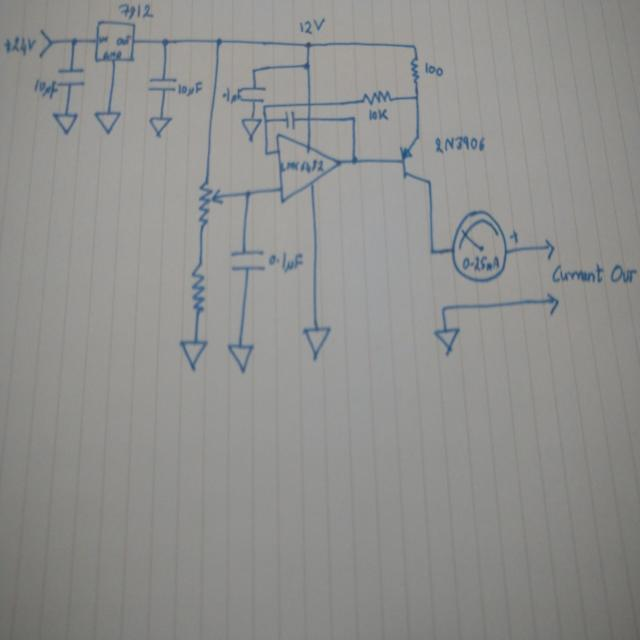capacitor: (229, 245, 266, 278), (146, 74, 178, 96), (56, 65, 86, 87), (241, 84, 267, 105), (283, 110, 298, 132)
crossover: (306, 115, 314, 124), (305, 100, 313, 108)
ground: (300, 324, 336, 362), (178, 337, 211, 372), (226, 341, 259, 374), (433, 326, 461, 356), (92, 108, 122, 136), (51, 109, 78, 137), (146, 114, 174, 139), (240, 116, 263, 143)
junction: (160, 36, 170, 48), (304, 39, 313, 50), (302, 61, 311, 71), (70, 36, 79, 46), (243, 188, 251, 199), (428, 246, 436, 257), (262, 148, 270, 158), (250, 66, 258, 75), (351, 155, 358, 165), (215, 37, 222, 47), (439, 304, 446, 312), (413, 92, 419, 101), (350, 114, 357, 121), (411, 42, 418, 49), (262, 102, 268, 110), (262, 117, 268, 124)
resistor: (195, 178, 225, 230), (188, 260, 207, 314), (360, 87, 393, 106), (408, 56, 421, 84)
terminal: (37, 27, 53, 59), (545, 289, 560, 316), (542, 236, 557, 260)
text: (550, 262, 638, 287), (434, 134, 487, 156), (267, 249, 305, 274), (2, 34, 36, 58), (118, 1, 156, 21), (279, 158, 325, 172), (462, 254, 501, 270), (32, 77, 59, 100), (298, 16, 326, 36), (176, 80, 204, 99), (422, 61, 444, 79), (220, 87, 242, 105), (367, 107, 389, 123), (103, 50, 122, 59), (116, 34, 131, 45), (98, 35, 108, 43)
transistor: (398, 134, 432, 186)
